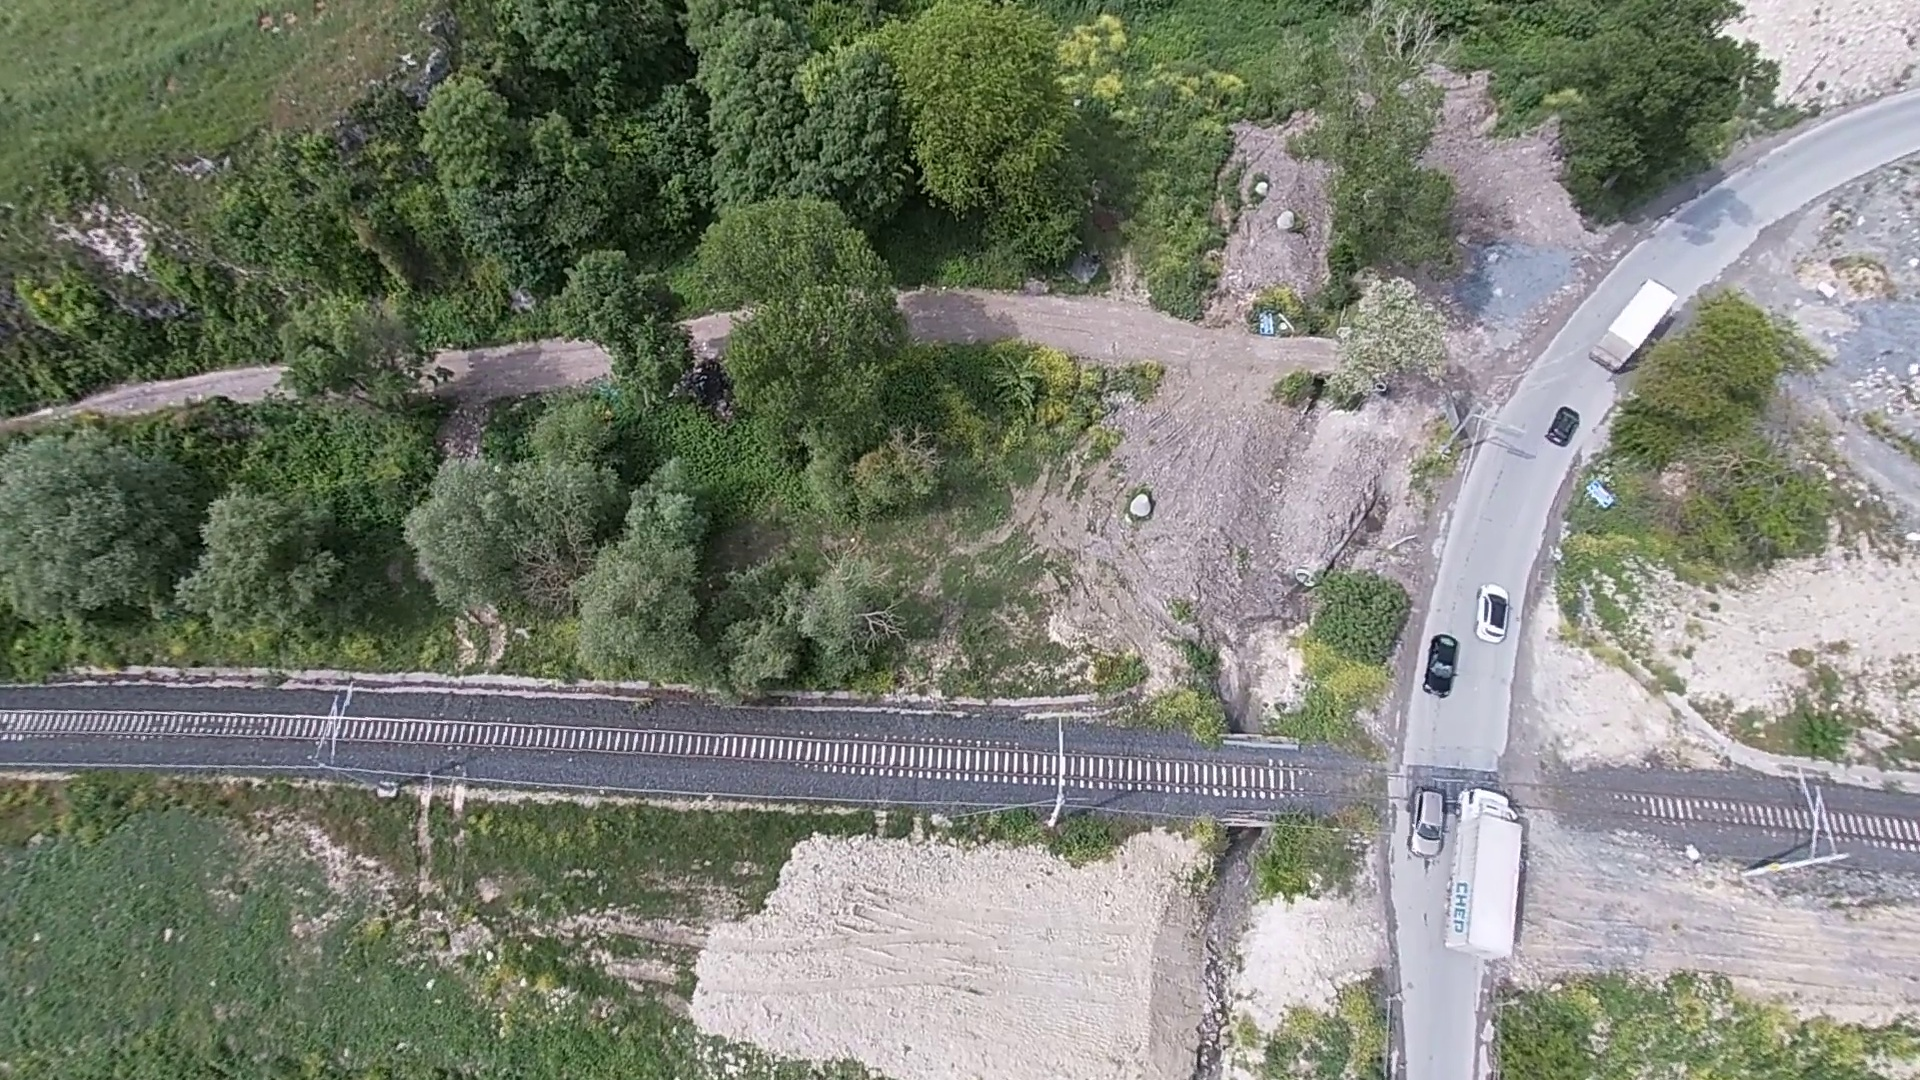araba: (1416, 632, 1469, 707), (1407, 787, 1451, 864), (1472, 580, 1519, 647), (1539, 404, 1592, 452)
kamyon: (1451, 781, 1534, 963), (1582, 276, 1685, 378)
